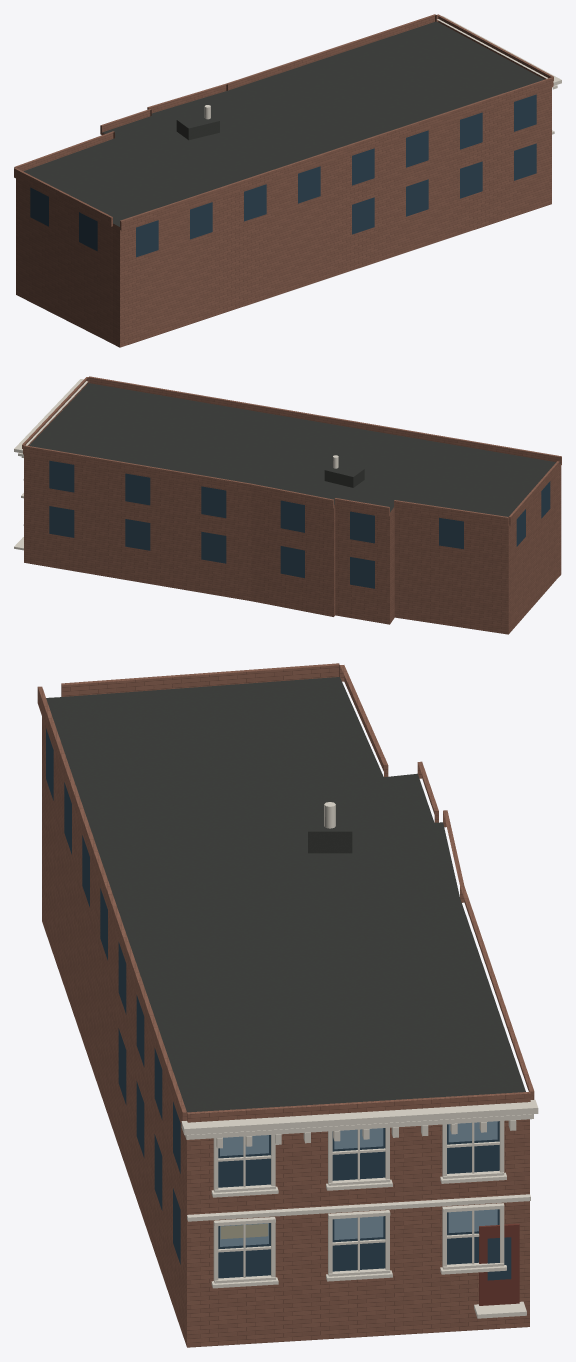
3 views of the same model, one above another, from view 1: azimuth 30°, elevation 25°; view 2: azimuth 150°, elevation 25°; view 3: azimuth 270°, elevation 25° (orthographic). The views are drawn at different scales.
Parts seen in each view (by area): view 1: Footprint 0 / surface 2, Footprint 0 / surface 1, Facade bay volumes, Inset glazing, Cornices and window frames; view 2: Footprint 0 / surface 2, Footprint 0 / surface 1, Facade bay volumes, Inset glazing, Cornices and window frames, Inferred rooftop service enclosure / surface 6; view 3: Footprint 0 / surface 1, Footprint 0 / surface 2, Cornices and window frames, Facade bay volumes, Inset glazing, Sky reflection panels, Storefronts and doors, Inferred rooftop service enclosure / surface 1, Inferred rooftop service enclosure / surface 3.
Boxes of the visible parts, box(x1,y1,x2,y2) form: Footprint 0 / surface 2: box(16, 87, 551, 347); Footprint 0 / surface 1: box(23, 21, 544, 226); Facade bay volumes: box(14, 14, 553, 230); Inset glazing: box(30, 94, 536, 257); Cornices and window frames: box(437, 16, 561, 134); Footprint 0 / surface 2: box(24, 454, 561, 634); Footprint 0 / surface 1: box(29, 383, 560, 516); Facade bay volumes: box(22, 376, 561, 526); Inset glazing: box(49, 460, 550, 588); Cornices and window frames: box(14, 379, 87, 550); Inferred rooftop service enclosure / surface 6: box(324, 470, 353, 487); Footprint 0 / surface 1: box(46, 677, 525, 1112); Footprint 0 / surface 2: box(42, 717, 529, 1347); Cornices and window frames: box(181, 1100, 538, 1318); Facade bay volumes: box(37, 663, 534, 1125); Inset glazing: box(46, 728, 511, 1280); Sky reflection panels: box(220, 1121, 497, 1246); Storefronts and doors: box(479, 1223, 519, 1305); Inferred rooftop service enclosure / surface 1: box(308, 831, 352, 853); Inferred rooftop service enclosure / surface 3: box(308, 803, 352, 831).
Bounding box in the file's own units: 29.25 × 7.96 × 13.52.
